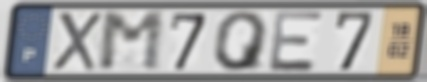7: (333, 9, 375, 73), (168, 11, 210, 72)
E: (267, 9, 327, 74)
M: (98, 9, 167, 74)
Q: (213, 9, 272, 74)
X: (50, 10, 104, 73)
